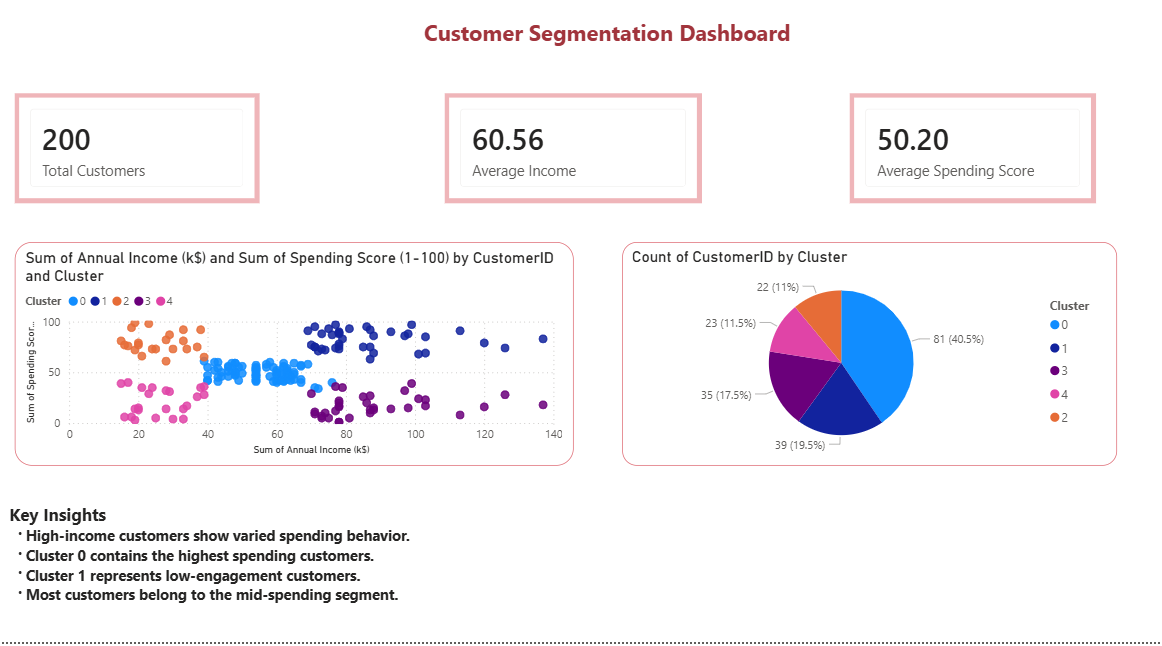

The page's visual inventory and layout, read from the dashboard file:
{"tool":"powerbi","page":{"name":"Page 1","canvas":[1280,720],"ordinal":0},"visuals":[{"type":"cardVisual","fields":{"Data":["CountNonNull(Customer_Segmentation_Output.CustomerID)"]},"box":[20.6,116.6,269,120.8],"z":0},{"type":"cardVisual","fields":{"Data":["Avg(Customer_Segmentation_Output.Annual Income (k$))"]},"box":[492.6,116.6,282.7,120.8],"z":1},{"type":"cardVisual","fields":{"Data":["Avg(Customer_Segmentation_Output.Spending Score (1-100))"]},"box":[937.2,116.6,270.3,120.8],"z":2},{"type":"scatterChart","fields":{"X":["Sum(Customer_Segmentation_Output.Annual Income (k$))"],"Y":["Sum(Customer_Segmentation_Output.Spending Score (1-100))"],"Series":["Customer_Segmentation_Output.Cluster"],"Category":["Customer_Segmentation_Output.CustomerID"]},"box":[20.6,279.9,613.4,245.6],"z":3},{"type":"pieChart","fields":{"Category":["Customer_Segmentation_Output.Cluster"],"Y":["CountNonNull(Customer_Segmentation_Output.CustomerID)"]},"box":[687.5,279.9,543.4,245.6],"z":4},{"type":"textbox","box":[9.6,561.2,562.6,138.6],"z":5},{"type":"textbox","box":[428.1,28.8,485.8,57.6],"z":6}]}

Visuals, with their boxes in screenshot pixels (x1, y1, x2, y2), scaled from the page's 1280x720 canvas onto the 1162x646 screenshot:
cardVisual - CountNonNull(Customer_Segmentation_Output.CustomerID): l=19, t=105, r=263, b=213
cardVisual - Avg(Customer_Segmentation_Output.Annual Income (k$)): l=447, t=105, r=704, b=213
cardVisual - Avg(Customer_Segmentation_Output.Spending Score (1-100)): l=851, t=105, r=1096, b=213
scatterChart - Sum(Customer_Segmentation_Output.Annual Income (k$)) x Sum(Customer_Segmentation_Output.Spending Score (1-100)): l=19, t=251, r=576, b=471
pieChart - Customer_Segmentation_Output.Cluster x CountNonNull(Customer_Segmentation_Output.CustomerID): l=624, t=251, r=1117, b=471
textbox: l=9, t=504, r=519, b=628
textbox: l=389, t=26, r=830, b=78
